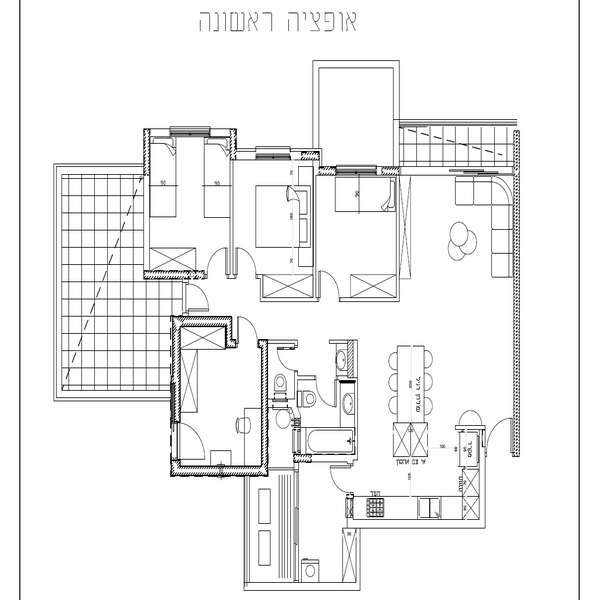door: (169, 424, 206, 467), (181, 282, 215, 314), (317, 268, 346, 304), (487, 416, 512, 454), (329, 461, 357, 493), (314, 379, 340, 410), (236, 312, 259, 347), (205, 249, 231, 279), (277, 344, 299, 376), (234, 249, 260, 276)
room: (230, 154, 400, 303), (171, 318, 268, 472), (143, 127, 236, 280), (245, 472, 361, 593), (261, 338, 356, 468), (311, 59, 401, 175)
window: (454, 166, 500, 179), (336, 164, 378, 176), (257, 145, 290, 160), (169, 125, 207, 137)
